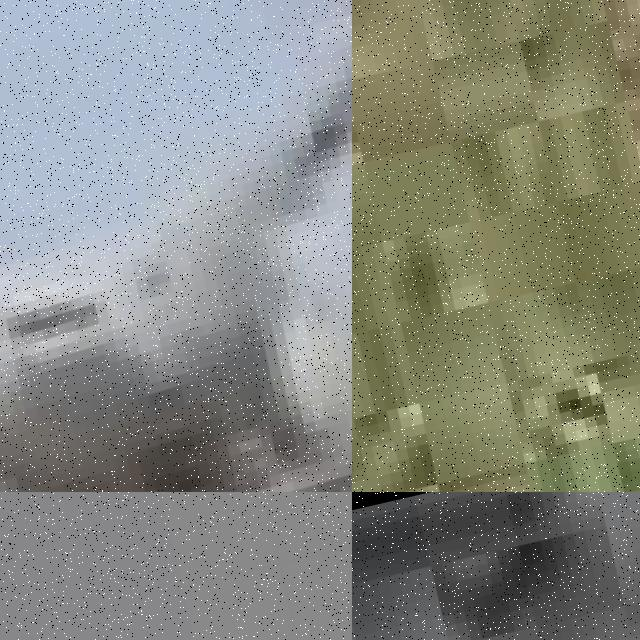drone: (0, 0, 352, 492)
